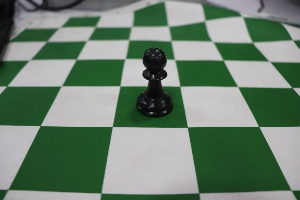black_pawn: (119, 37, 180, 120)
